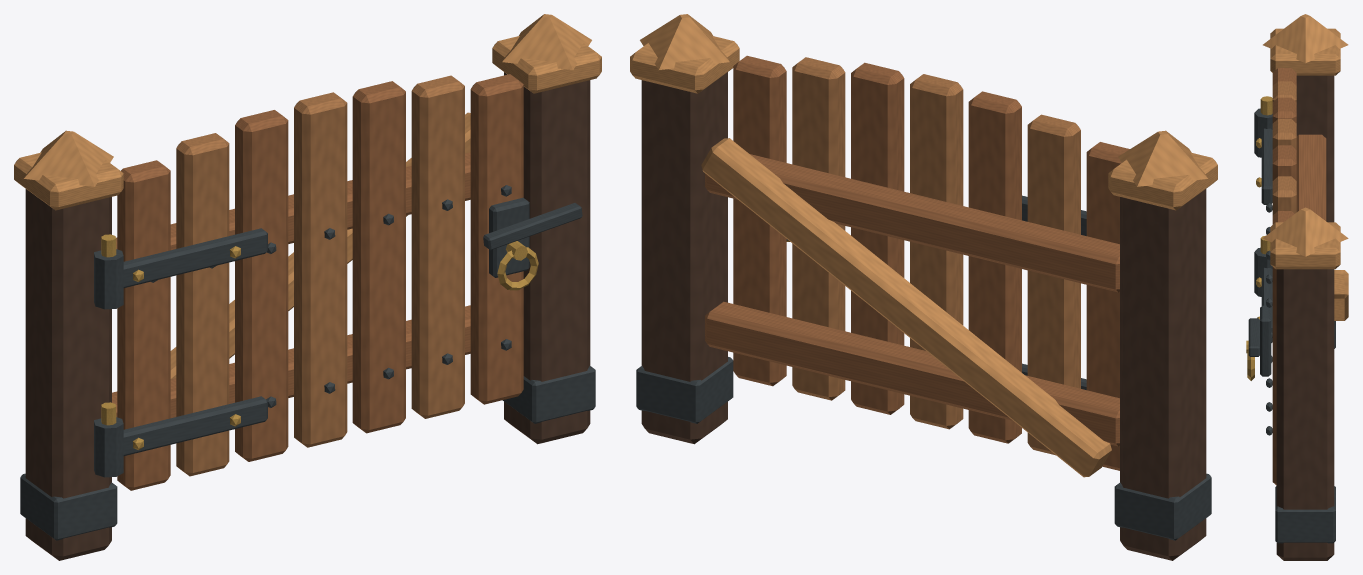
Rendered from gate_garden.glb.
3 renders of one model, left to right at view 1: azimuth 30°, elevation 25°; view 2: azimuth 150°, elevation 25°; view 3: azimuth 270°, elevation 25°, orthographic. The views are drawn at different scales.
Parts seen in each view (by area): view 1: gate_garden; view 2: gate_garden; view 3: gate_garden.
Part boxes in pixels (x1,y1,x2,y2): gate_garden: (14,14,601,560); gate_garden: (630,14,1217,560); gate_garden: (1246,14,1348,560).
Bounding box in the file's own units: 1.7 × 1.18 × 0.3205.
Materials: 1 (1 with a texture image).
